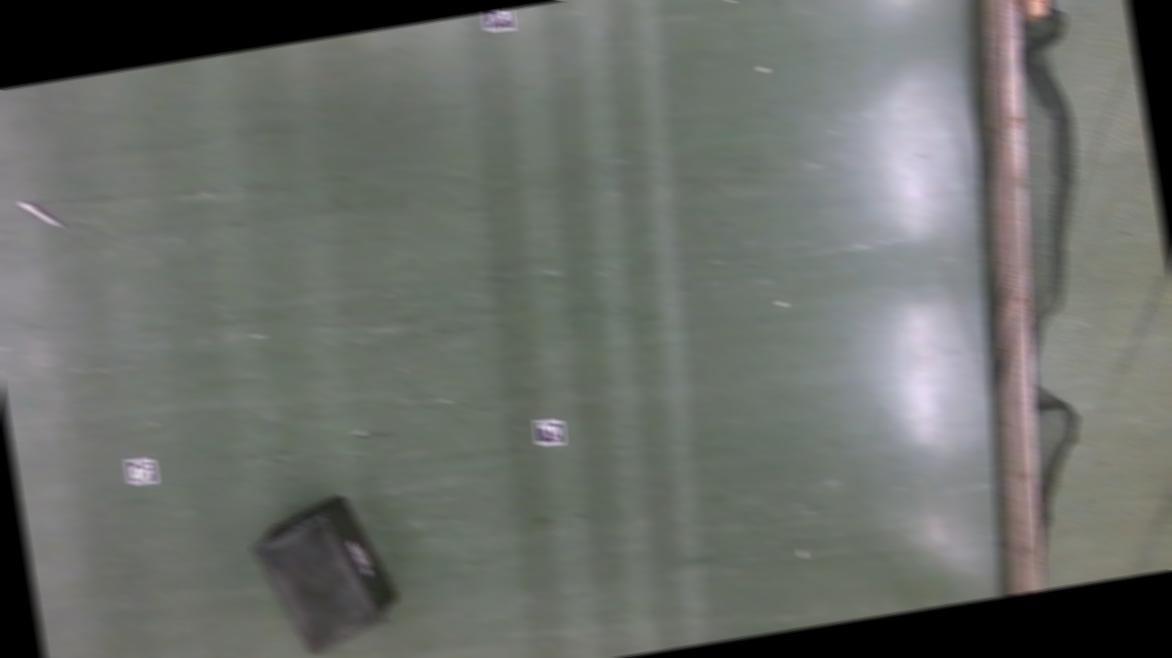probes: (18, 195, 64, 234)
rako: (244, 486, 406, 658)
